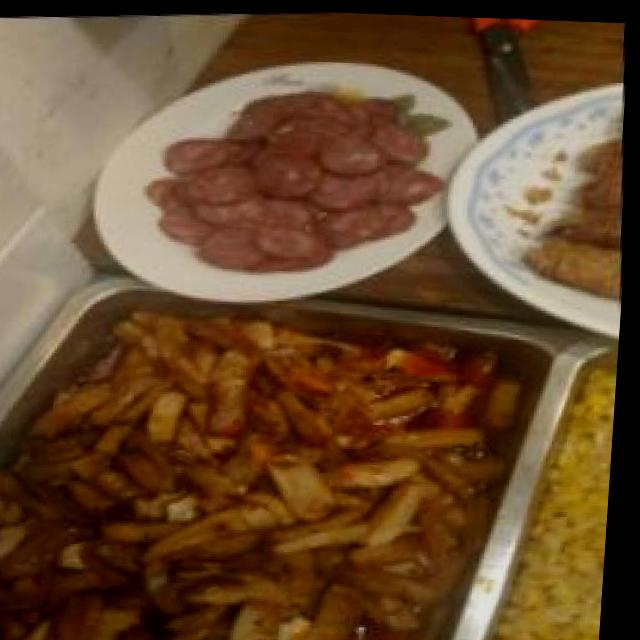chinese_sausage: (151, 80, 434, 281)
